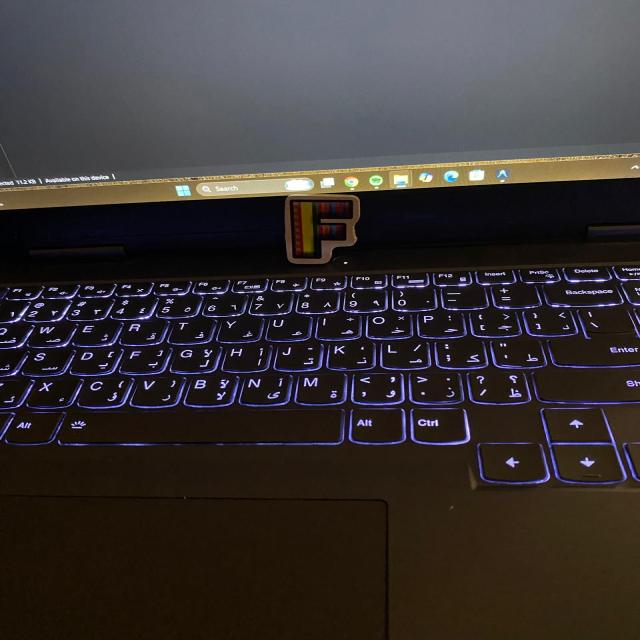F: (285, 196, 359, 263)
